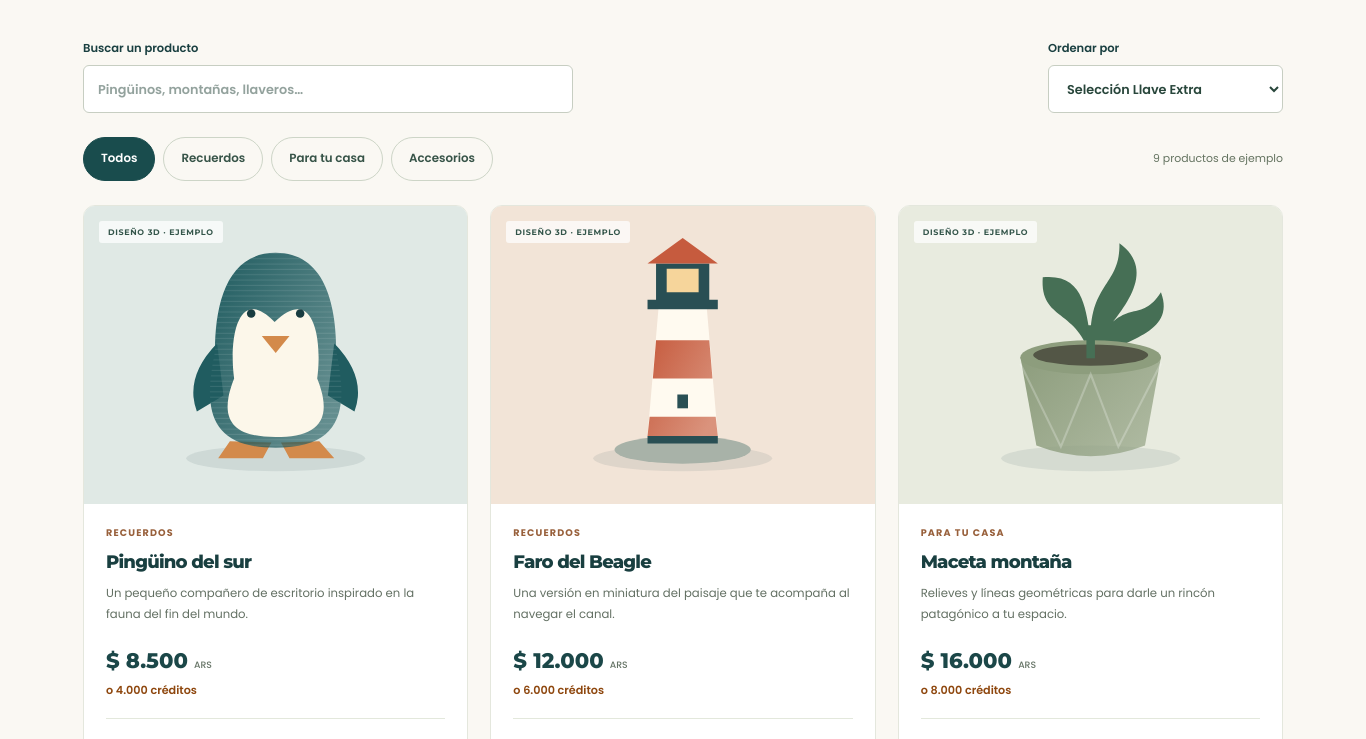
Scenario: recorridos F2 del Cliente › abre la tienda pública sin consultar saldo ni operaciones (sesión: false)
(page scrolled)
Click the link with aria-label "Ver Faro del Beagle": (683, 355) [491,206,875,504]
(page scrolled)
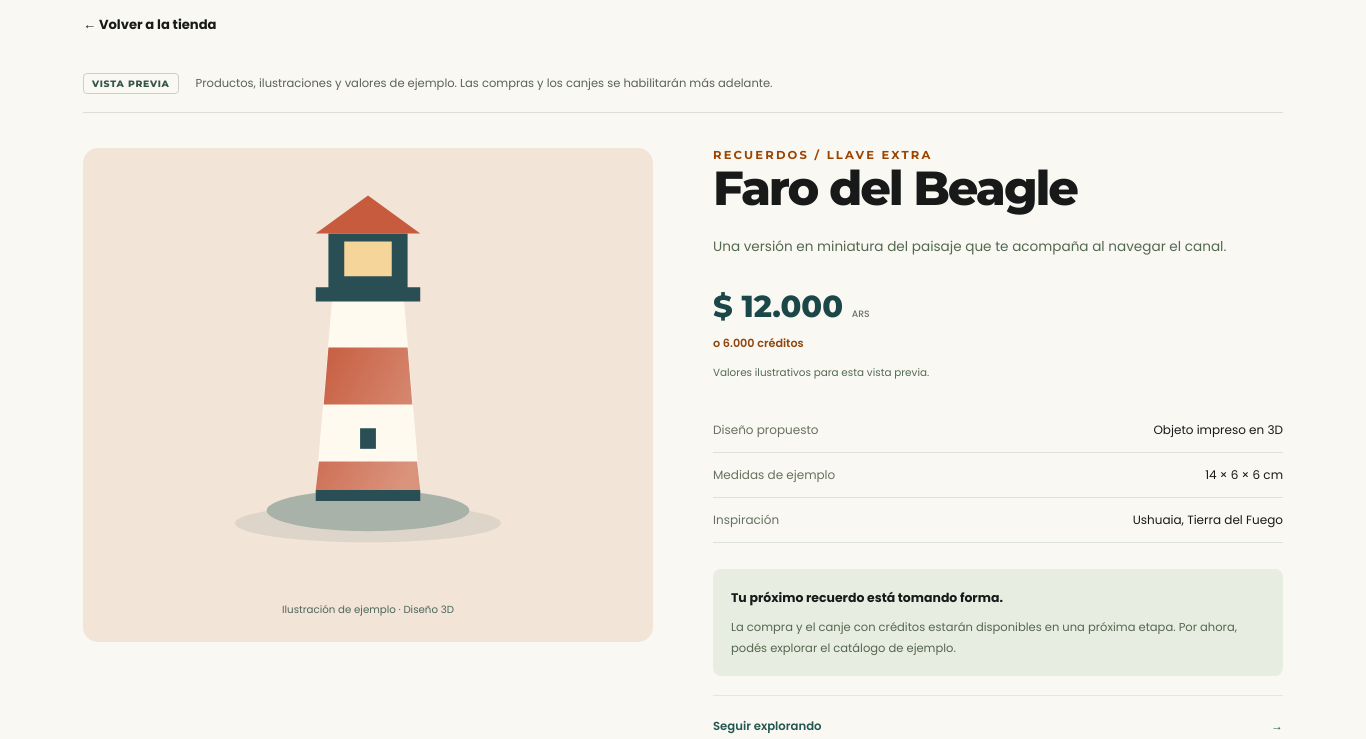
Now the heading "Faro del Beagle" is shown, box [713,159,1077,217]
